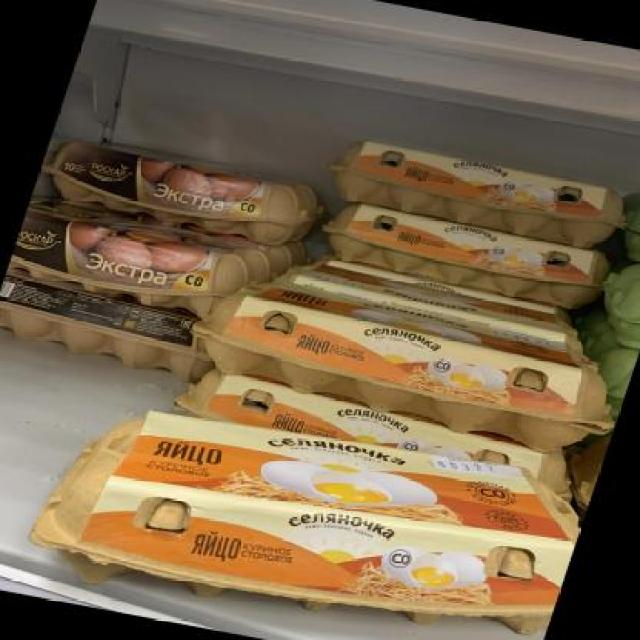Egg: (0, 384, 594, 640), (169, 268, 640, 455), (320, 132, 640, 254), (31, 130, 332, 250), (310, 198, 618, 312), (4, 200, 270, 323), (587, 254, 640, 347), (590, 342, 639, 416), (615, 186, 639, 265)
